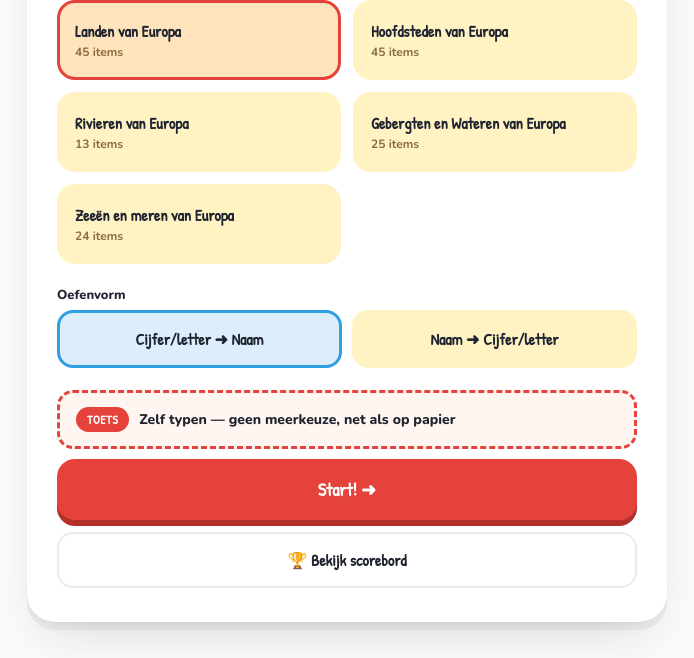
Test case: App › opens the scoreboard from the start screen and shows the empty state
This screenshot has width=694, height=658.
(page scrolled)
What coordinates should you click on to do the following:
click the button "🏆 Bekijk scorebord"
I would click on:
 (347, 560)
Its box is [57,532,637,588].
(page scrolled)
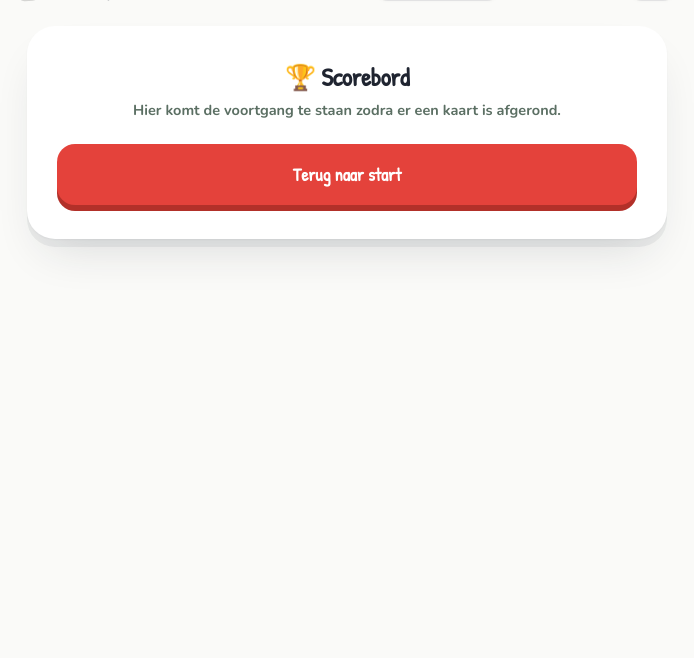
Expected: the text "Hier komt de voortgang te staan" is shown, [133,100,561,120]
